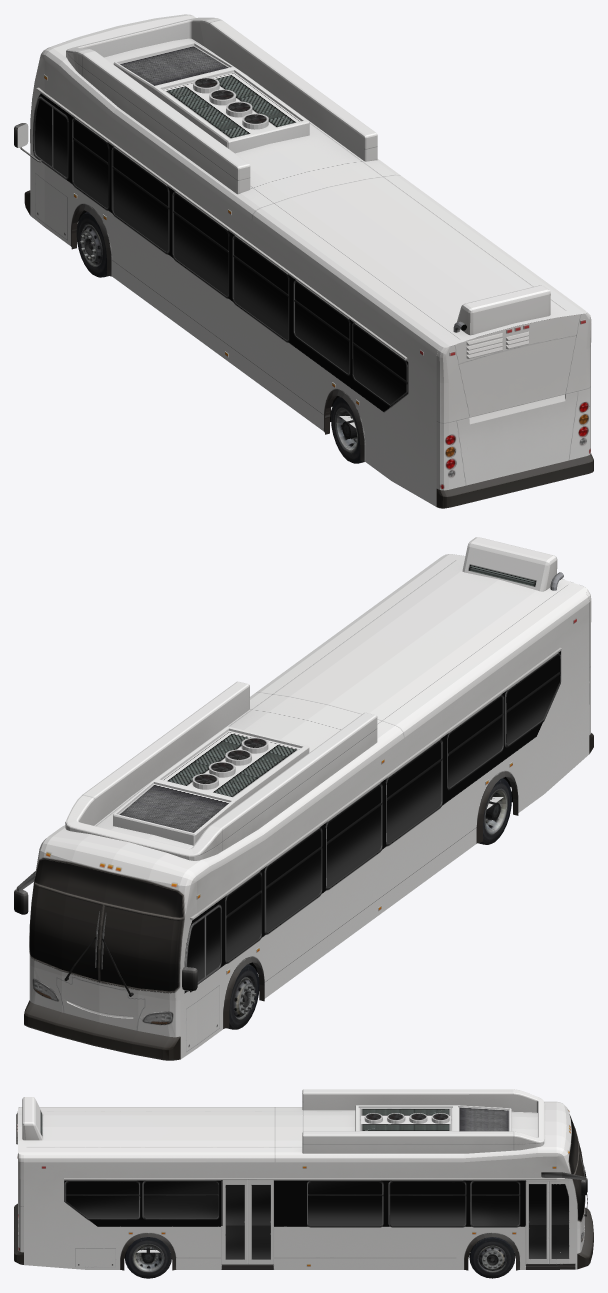
File: bus.fbx
The picture shows the model from 3 angles, top to bottom: view 1: azimuth 30°, elevation 25°; view 2: azimuth 150°, elevation 25°; view 3: azimuth 270°, elevation 25°; orthographic projection. The views are drawn at different scales.
Visible parts, largest first — view 1: Object, Object.004, Object.002; view 2: Object, Object.004, Object.002; view 3: Object, gate, gate.001, Object.001, Object.003.
Part boxes in pixels (<box>): Object: <box>14,14,593,508</box>; Object.004: <box>76,212,108,277</box>; Object.002: <box>331,397,363,463</box>; Object: <box>14,537,593,1060</box>; Object.004: <box>226,964,259,1029</box>; Object.002: <box>478,778,511,844</box>; Object: <box>14,1089,593,1270</box>; gate: <box>221,1180,248,1265</box>; gate.001: <box>248,1180,273,1265</box>; Object.001: <box>469,1233,515,1278</box>; Object.003: <box>124,1237,171,1278</box>.
Size of the model in its own units: 0.938 by 1.08 by 3.93.
